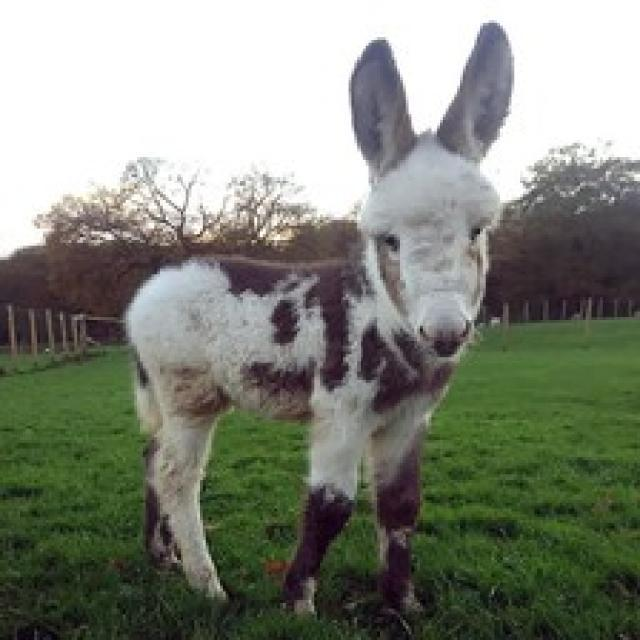Donkey: (89, 30, 528, 618)
